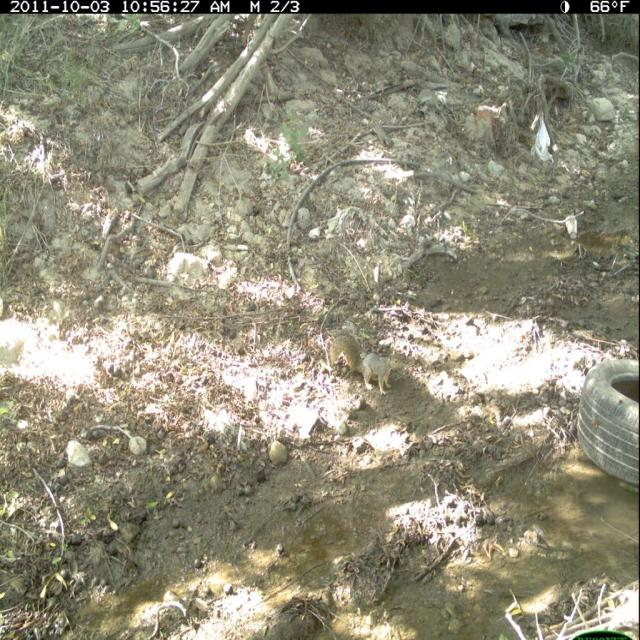squirrel: (327, 326, 408, 399)
